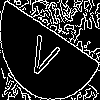V: (25, 25, 65, 82)
